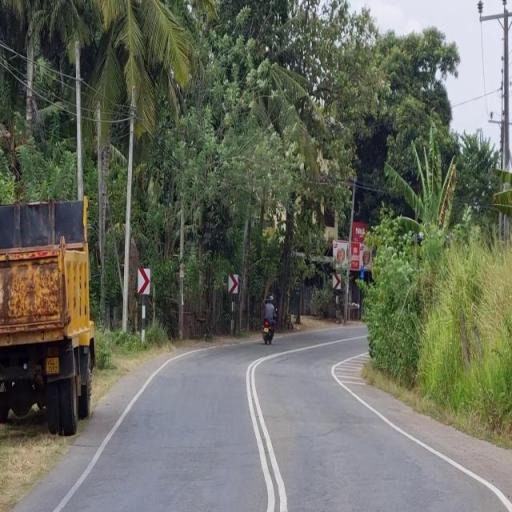double_white_line: (246, 354, 290, 511)
